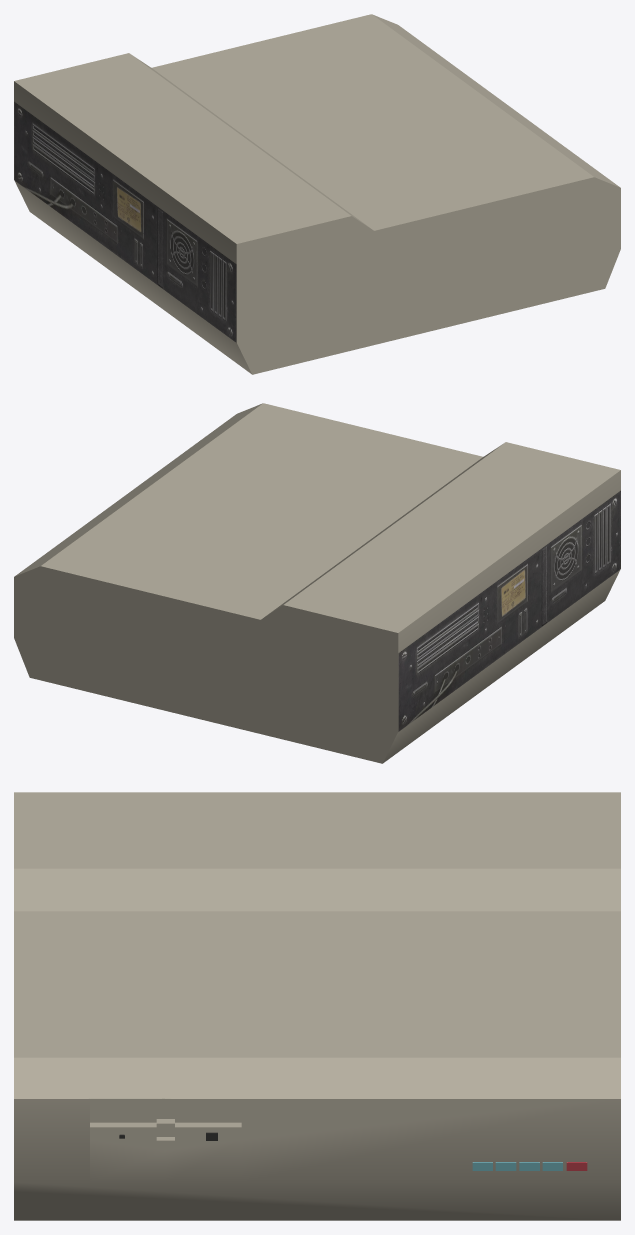
The model's file is Tower.fbx.
The picture shows the model from 3 angles, top to bottom: view 1: azimuth 30°, elevation 25°; view 2: azimuth 150°, elevation 25°; view 3: azimuth 270°, elevation 25°; orthographic projection. The views are drawn at different scales.
Visible parts, largest first — view 1: Tower; view 2: Tower; view 3: Tower.
Part boxes in pixels (x1,y1,x2,y2): Tower: (14, 14, 620, 374); Tower: (14, 403, 620, 763); Tower: (14, 792, 620, 1220).
Bounding box in the file's own units: 45 × 15 × 45.
